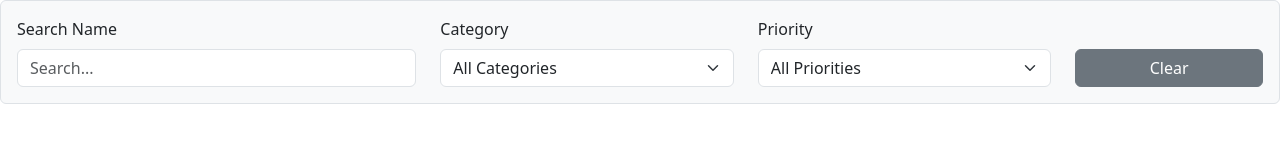
Test: FilterForm component › should clear filters when Clear button is clicked
In the field labelled "Search Name": x=217, y=68 [17, 49, 416, 87], type "test"
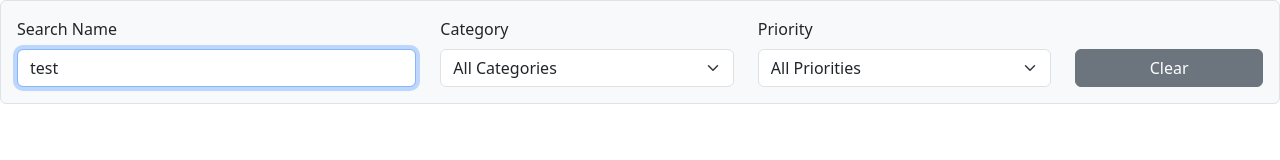
Click the button "Clear": x=1169, y=68 [1075, 49, 1263, 87]
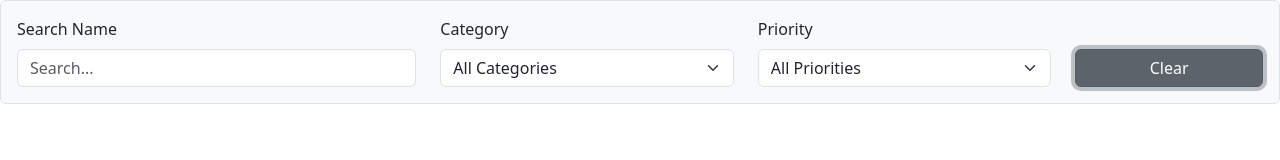
expect the field labelled "Search Name" is empty: met, box [17, 49, 416, 87]
